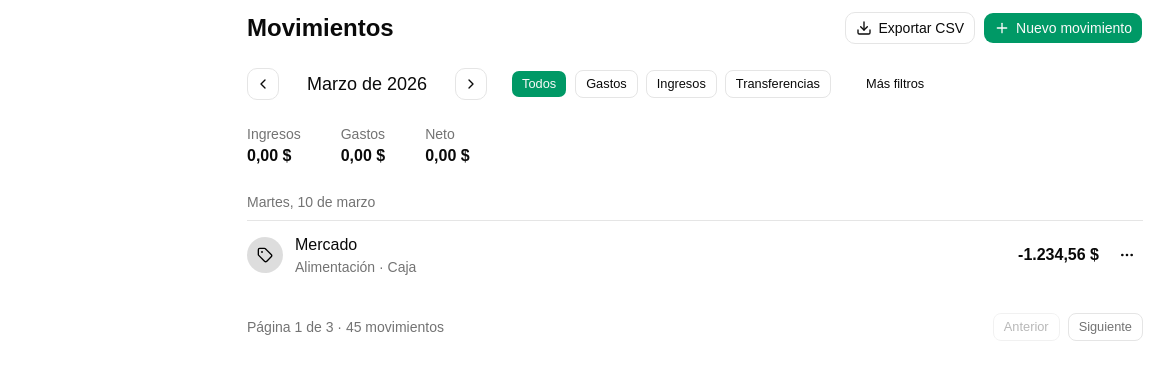
Test: TransactionsPage › period summary › does not ask again when only the page changes
Check: the text with test id "summary-net" is shown, box [425,144,470,168]
Click the button "Siguiente" at x=1105, y=327, box [1068,313,1143,341]
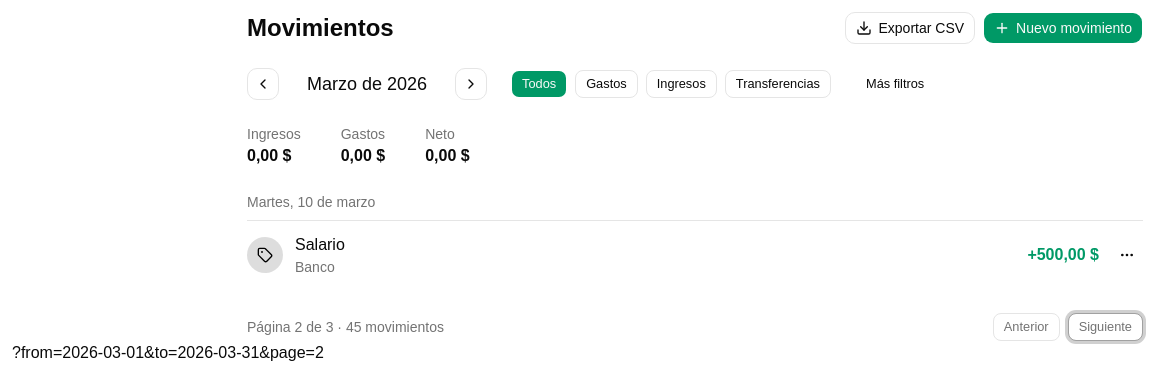
Check: the text "Página 2 de 3 · 45 movimientos" is shown, box [247,317,444,337]
